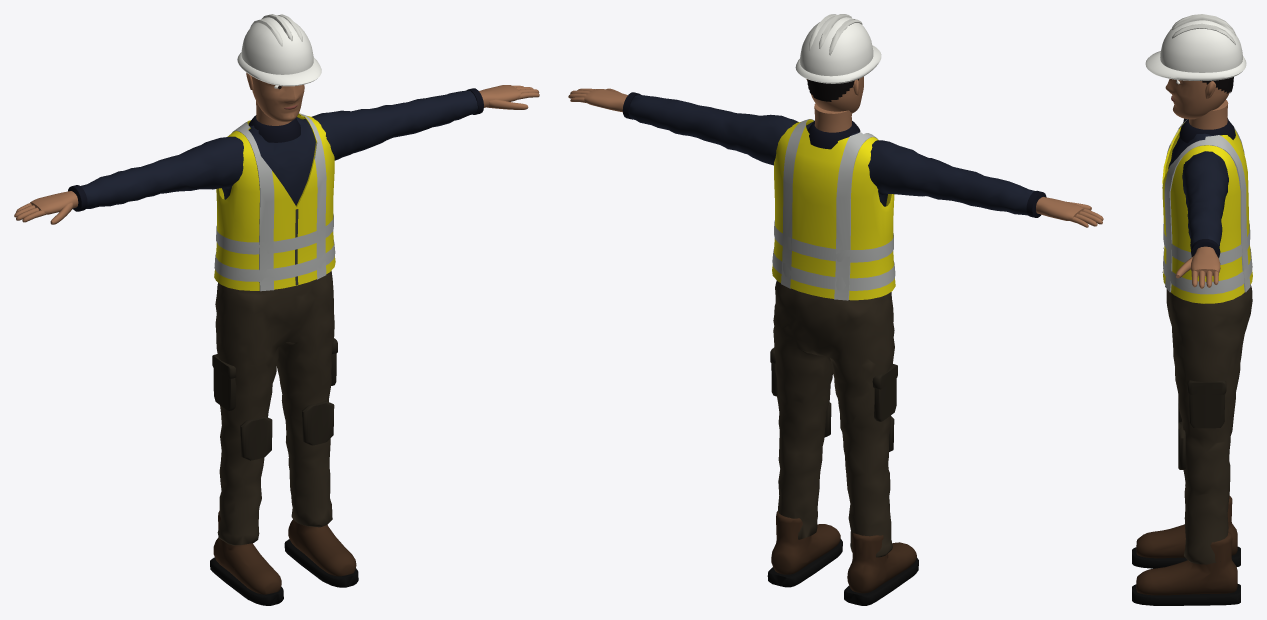
Rendered from 21.1 CONG NHAN B.fbx.
The picture shows the model from 3 angles, left to right: view 1: azimuth 30°, elevation 25°; view 2: azimuth 150°, elevation 25°; view 3: azimuth 270°, elevation 25°; orthographic projection.
Visible parts, largest first — view 1: CONG_NHAN_B; view 2: CONG_NHAN_B; view 3: CONG_NHAN_B.
Boxes of the visible parts, left/top/right/bottom form: CONG_NHAN_B: left=14, top=14, right=539, bottom=605; CONG_NHAN_B: left=568, top=14, right=1103, bottom=605; CONG_NHAN_B: left=1132, top=14, right=1252, bottom=605.
Size of the model in its own units: 1.82 by 1.84 by 0.3582.
1 material, 1 textured.
